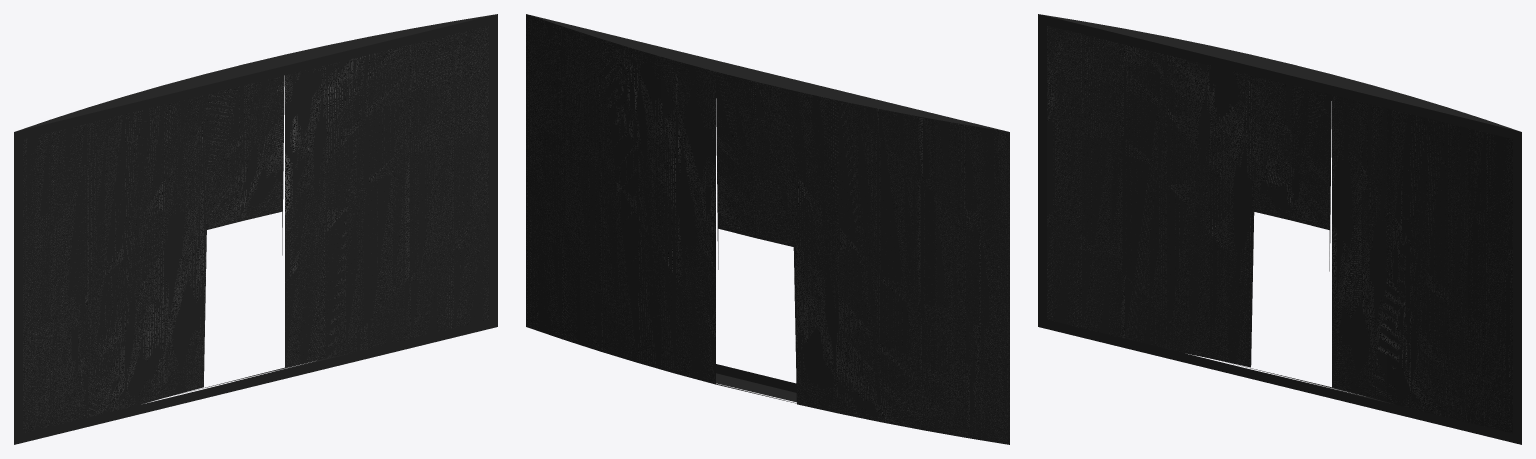
3 renders of one model, left to right at view 1: azimuth 30°, elevation 25°; view 2: azimuth 150°, elevation 25°; view 3: azimuth 330°, elevation 25°, orthographic.
Bounding box in the file's own units: 1.65 × 1.02 × 0.0707.
